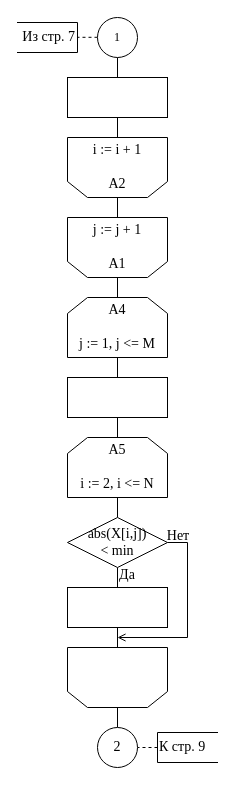
This 235x785 diagram has some shape labels left out. Each missing label, with the box of its shape:
i := i + 1 A5: (66, 646, 168, 708)
min := abs(X[1, j]: (66, 376, 168, 418)
min := abs(X[i, j]): (66, 586, 168, 628)
X[k, j] := X[k-1, j]: (66, 76, 168, 118)
